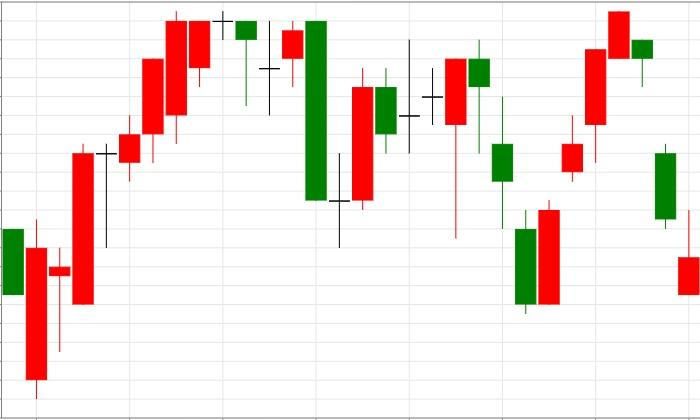three_white_soldiers_rise: (468, 40, 606, 314)
